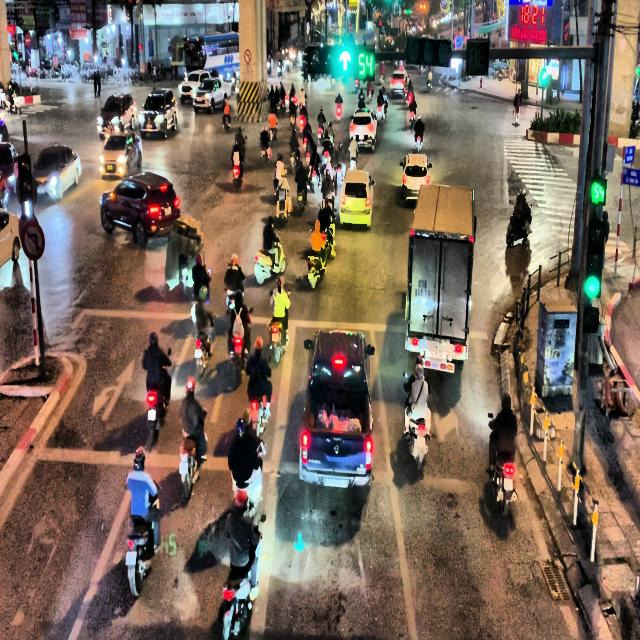lisence_plate: (318, 472, 356, 490), (416, 273, 430, 302), (426, 348, 445, 360), (160, 202, 170, 214), (350, 196, 358, 210), (358, 132, 363, 142)
